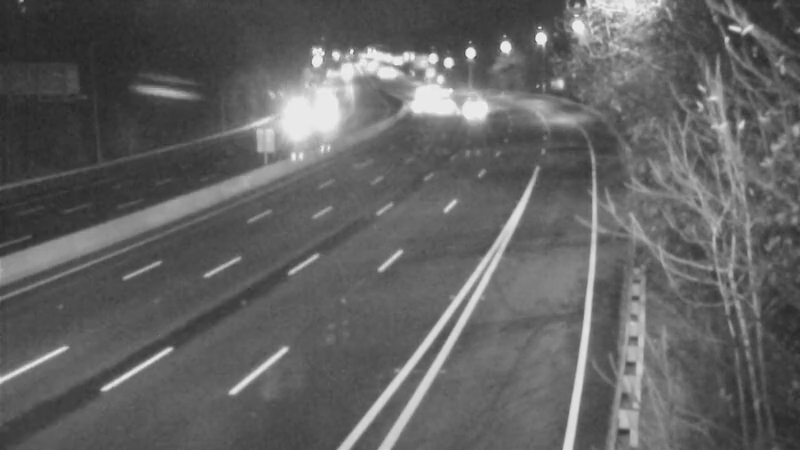vehicle: (423, 81, 473, 131), (400, 79, 450, 129), (449, 86, 499, 136)
